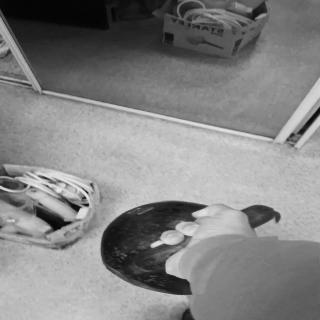kettlebell: (99, 199, 284, 298)
